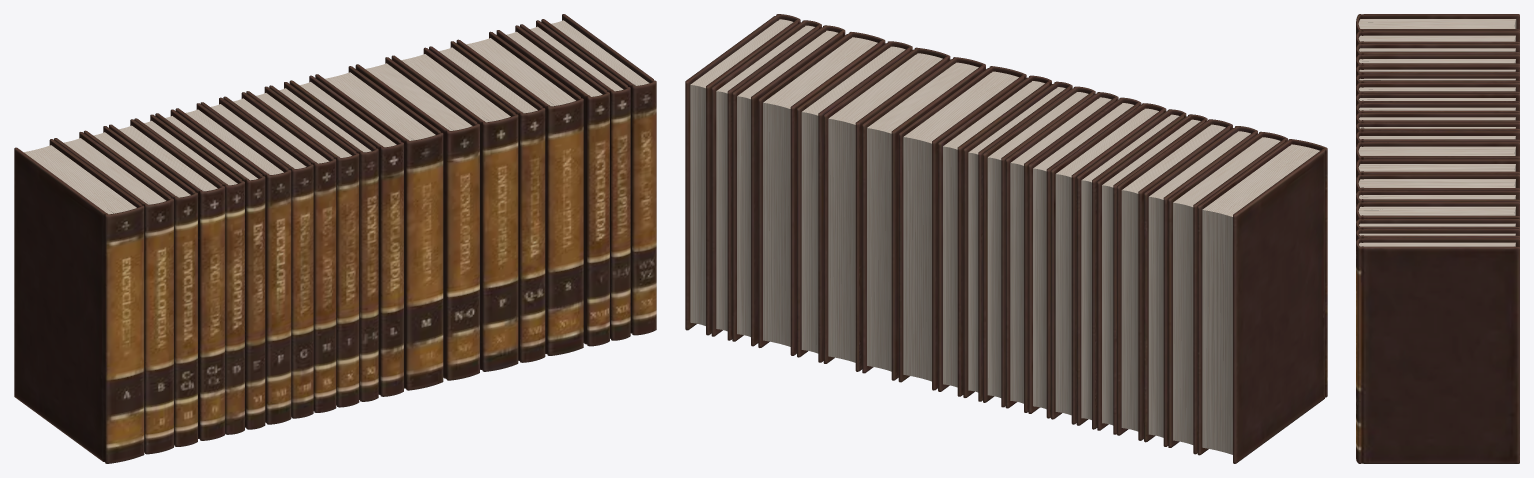
The model's file is book_encyclopedia_set_01.glb.
The picture shows the model from 3 angles, left to right: view 1: azimuth 30°, elevation 25°; view 2: azimuth 150°, elevation 25°; view 3: azimuth 270°, elevation 25°; orthographic projection. The views are drawn at different scales.
Visible parts, largest first — view 1: book_encyclopedia_set_01_book01, book_encyclopedia_set_01_book13, book_encyclopedia_set_01_book15, book_encyclopedia_set_01_book17, book_encyclopedia_set_01_book14, book_encyclopedia_set_01_book02, book_encyclopedia_set_01_book16, book_encyclopedia_set_01_book04, book_encyclopedia_set_01_book18, book_encyclopedia_set_01_book20, book_encyclopedia_set_01_book07, book_encyclopedia_set_01_book12 (+8 smaller); view 2: book_encyclopedia_set_01_book01, book_encyclopedia_set_01_book13, book_encyclopedia_set_01_book15, book_encyclopedia_set_01_book17, book_encyclopedia_set_01_book14, book_encyclopedia_set_01_book02, book_encyclopedia_set_01_book04, book_encyclopedia_set_01_book16, book_encyclopedia_set_01_book20, book_encyclopedia_set_01_book18, book_encyclopedia_set_01_book07, book_encyclopedia_set_01_book12 (+8 smaller); view 3: book_encyclopedia_set_01_book20, book_encyclopedia_set_01_book13, book_encyclopedia_set_01_book01, book_encyclopedia_set_01_book17, book_encyclopedia_set_01_book15, book_encyclopedia_set_01_book14, book_encyclopedia_set_01_book02, book_encyclopedia_set_01_book16, book_encyclopedia_set_01_book03, book_encyclopedia_set_01_book12, book_encyclopedia_set_01_book07, book_encyclopedia_set_01_book04 (+8 smaller).
Boxes of the visible parts, x1,y1,x2,y2 form: book_encyclopedia_set_01_book01: [14, 139, 144, 463]; book_encyclopedia_set_01_book13: [315, 66, 443, 390]; book_encyclopedia_set_01_book15: [391, 47, 518, 371]; book_encyclopedia_set_01_book17: [456, 31, 583, 355]; book_encyclopedia_set_01_book14: [355, 57, 479, 380]; book_encyclopedia_set_01_book02: [54, 132, 173, 454]; book_encyclopedia_set_01_book16: [429, 41, 545, 362]; book_encyclopedia_set_01_book04: [109, 119, 224, 440]; book_encyclopedia_set_01_book18: [496, 25, 609, 346]; book_encyclopedia_set_01_book20: [541, 14, 656, 335]; book_encyclopedia_set_01_book07: [175, 103, 291, 424]; book_encyclopedia_set_01_book12: [289, 75, 403, 396]; book_encyclopedia_set_01_book01: [1197, 139, 1327, 463]; book_encyclopedia_set_01_book13: [898, 66, 1026, 390]; book_encyclopedia_set_01_book15: [823, 47, 950, 371]; book_encyclopedia_set_01_book17: [758, 32, 885, 355]; book_encyclopedia_set_01_book14: [862, 57, 985, 380]; book_encyclopedia_set_01_book02: [1168, 131, 1287, 454]; book_encyclopedia_set_01_book04: [1117, 119, 1232, 440]; book_encyclopedia_set_01_book16: [797, 41, 912, 362]; book_encyclopedia_set_01_book20: [685, 14, 800, 335]; book_encyclopedia_set_01_book18: [732, 25, 845, 346]; book_encyclopedia_set_01_book07: [1051, 103, 1166, 424]; book_encyclopedia_set_01_book12: [938, 75, 1051, 396]; book_encyclopedia_set_01_book20: [1356, 238, 1519, 463]; book_encyclopedia_set_01_book13: [1356, 142, 1519, 164]; book_encyclopedia_set_01_book01: [1356, 14, 1519, 35]; book_encyclopedia_set_01_book17: [1356, 202, 1519, 222]; book_encyclopedia_set_01_book15: [1356, 174, 1519, 194]; book_encyclopedia_set_01_book14: [1356, 159, 1519, 180]; book_encyclopedia_set_01_book02: [1356, 30, 1519, 47]; book_encyclopedia_set_01_book16: [1356, 190, 1519, 208]; book_encyclopedia_set_01_book03: [1356, 43, 1519, 58]; book_encyclopedia_set_01_book12: [1356, 131, 1519, 148]; book_encyclopedia_set_01_book07: [1356, 82, 1519, 96]; book_encyclopedia_set_01_book04: [1356, 54, 1519, 68].
Bounding box in the file's own units: 0.5513 × 0.2374 × 0.1631.
2 materials, 2 textured.
